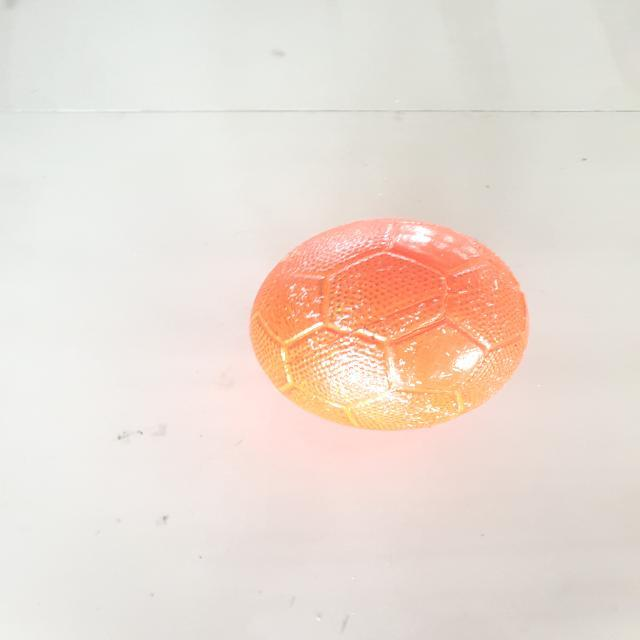bola: (213, 211, 555, 443)
